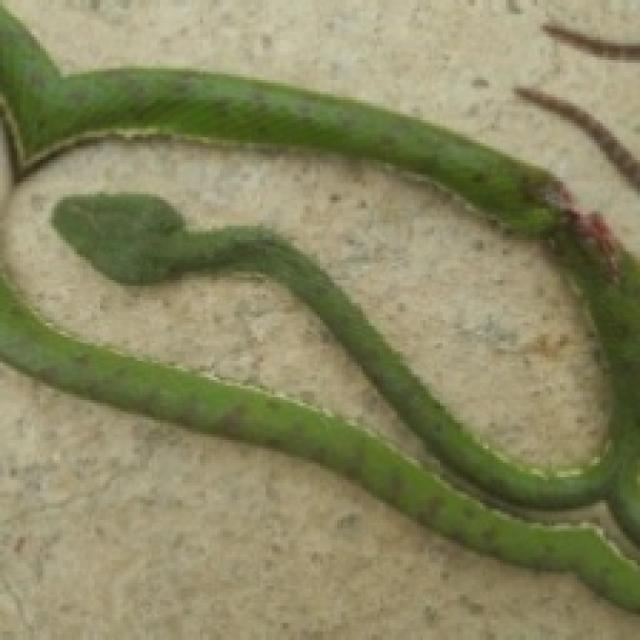philippine pitviper: (0, 8, 640, 542), (0, 278, 640, 608)
